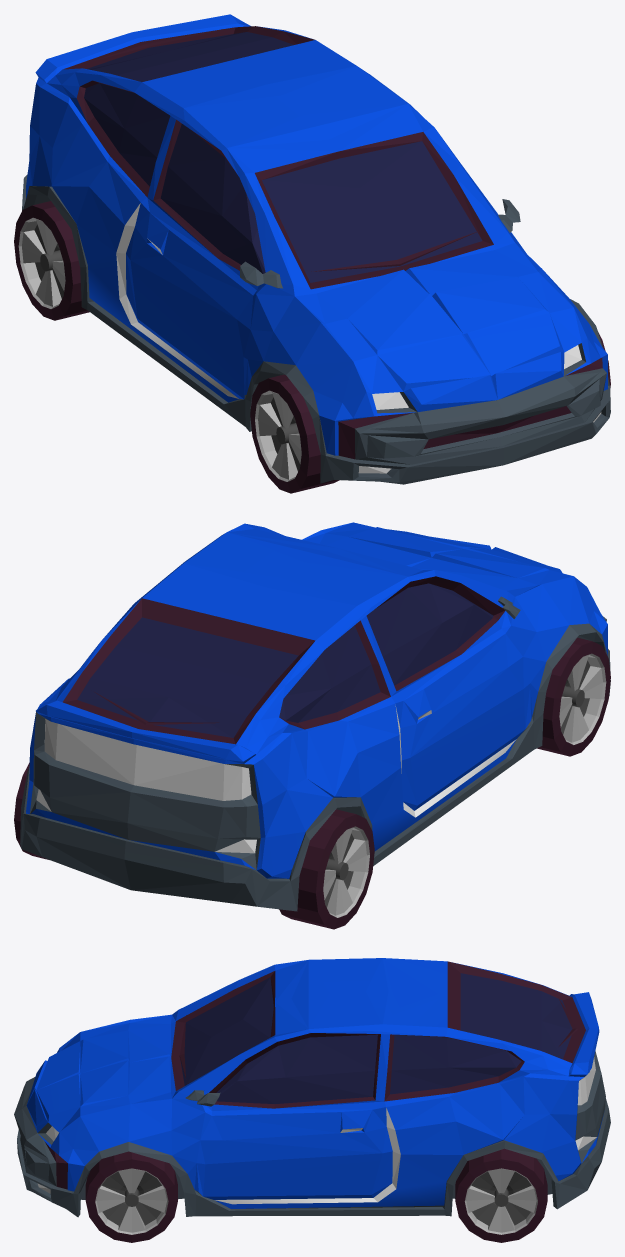
File: lowpolycar.fbx
The picture shows the model from 3 angles, top to bottom: view 1: azimuth 30°, elevation 25°; view 2: azimuth 150°, elevation 25°; view 3: azimuth 270°, elevation 25°; orthographic projection. The views are drawn at different scales.
Parts seen in each view (by area): view 1: car_1, car_1_wheel_2, car_1_wheel_4; view 2: car_1, car_1_wheel_4, car_1_wheel_2; view 3: car_1, car_1_wheel_3, car_1_wheel_1.
Part boxes in pixels (x1,y1,x2,y2): car_1: [22, 14, 610, 484]; car_1_wheel_2: [250, 374, 339, 493]; car_1_wheel_4: [14, 201, 89, 320]; car_1: [20, 522, 610, 911]; car_1_wheel_4: [279, 809, 374, 929]; car_1_wheel_2: [537, 637, 610, 756]; car_1: [14, 958, 610, 1217]; car_1_wheel_3: [455, 1148, 547, 1242]; car_1_wheel_1: [85, 1151, 177, 1242].
Bounding box in the file's own units: 131 × 102 × 285.
